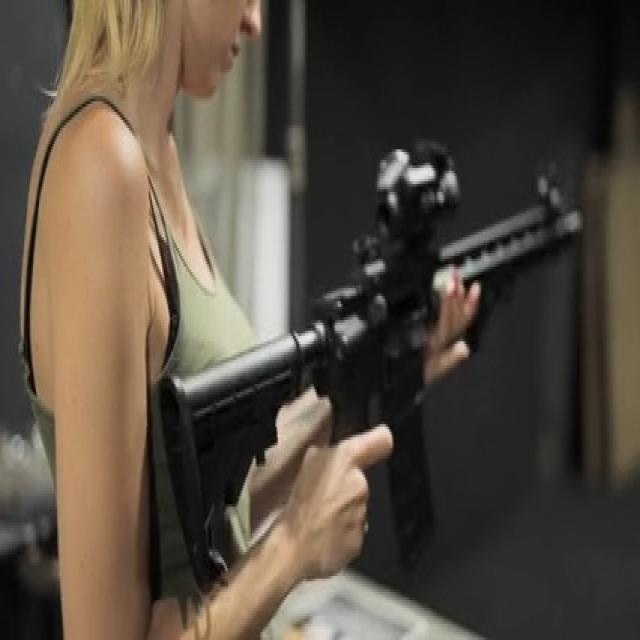Gun_Holder: (150, 136, 620, 538)
Person: (17, 0, 399, 640)
